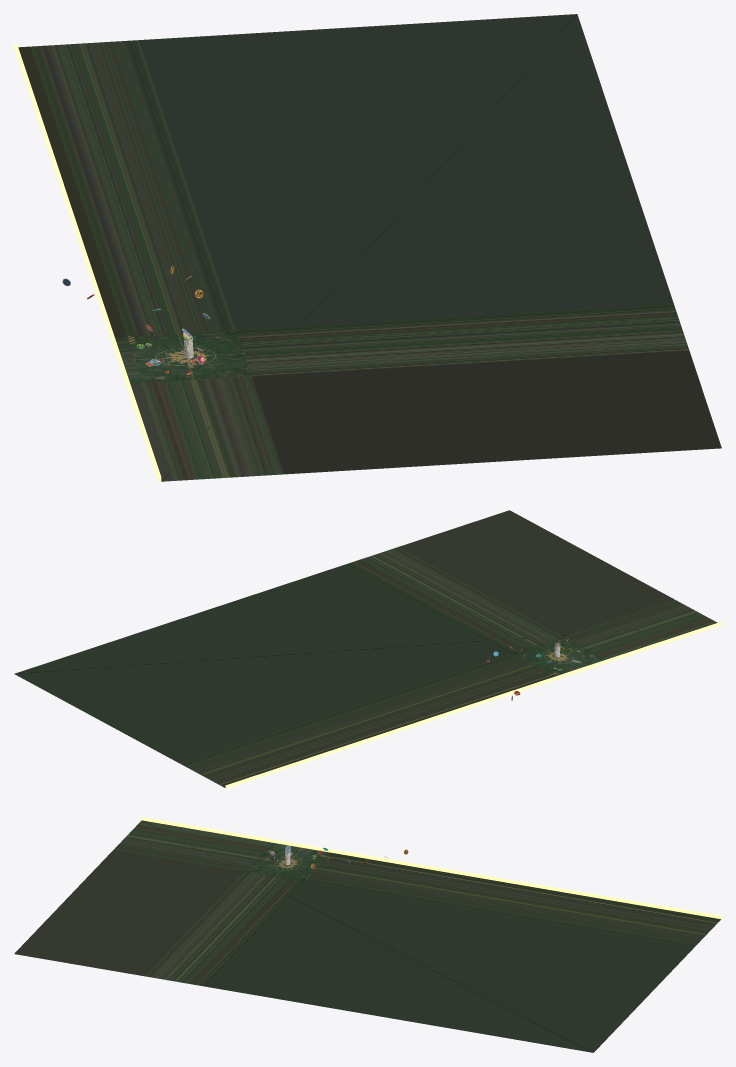
3 renders of one model, top to bottom at view 1: azimuth 30°, elevation 25°; view 2: azimuth 150°, elevation 25°; view 3: azimuth 270°, elevation 25°, orthographic. The views are drawn at different scales.
Parts seen in each view (by area): view 1: felt, rail; view 2: felt, rail; view 3: felt, rail.
Part boxes in pixels (x1=…): felt: x1=18, y1=14, x2=721, y2=481; rail: x1=14, y1=43, x2=161, y2=481; felt: x1=14, y1=510, x2=717, y2=787; rail: x1=225, y1=622, x2=721, y2=788; felt: x1=14, y1=820, x2=720, y2=1052; rail: x1=141, y1=817, x2=721, y2=919.
Bounding box in the file's own units: 97.1 × 4.98 × 125.
93 materials, 91 textured.
